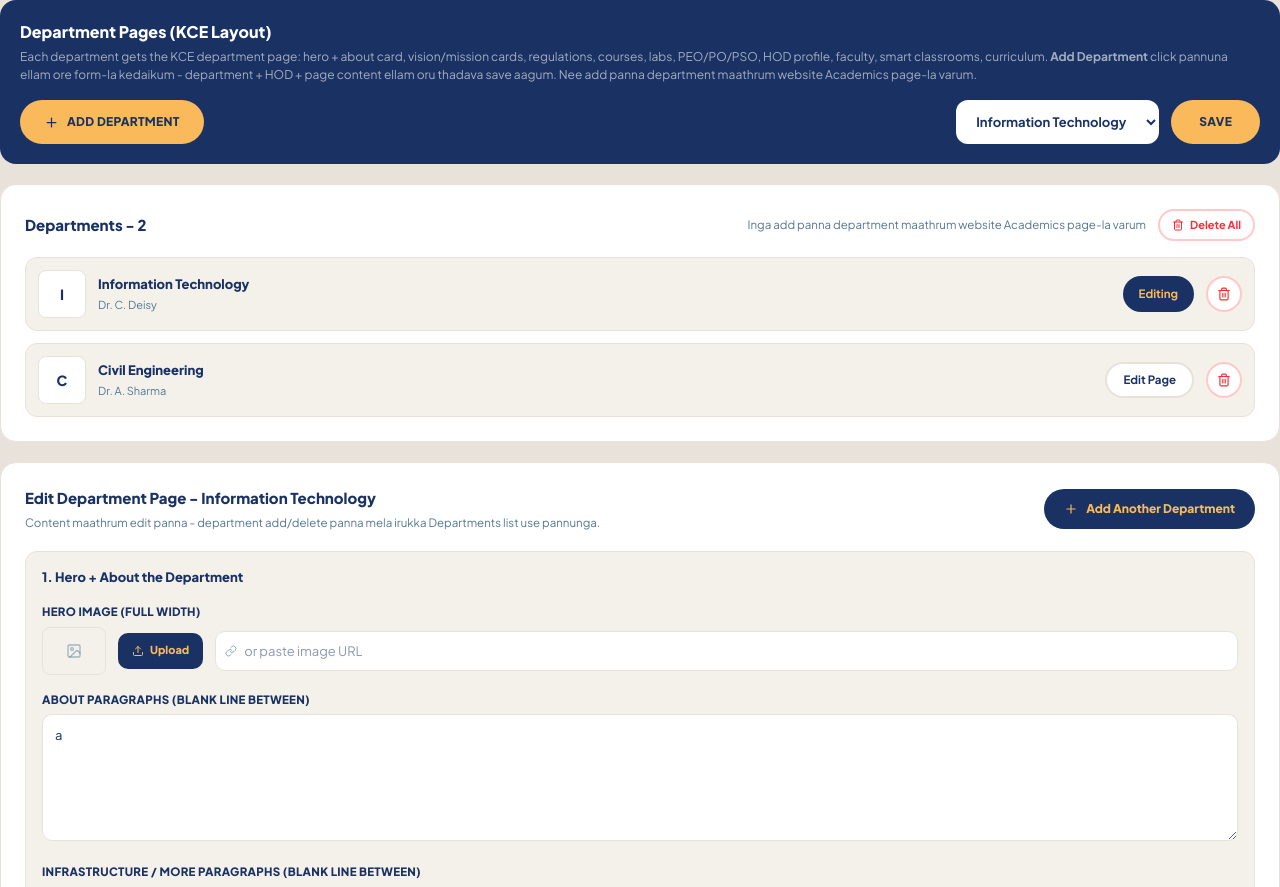
Test: Admin - department manager in Department Pages › deletes all departments in one click (clean slate)
Click the button "Delete All" at (1207, 225), box [1158, 209, 1255, 241]
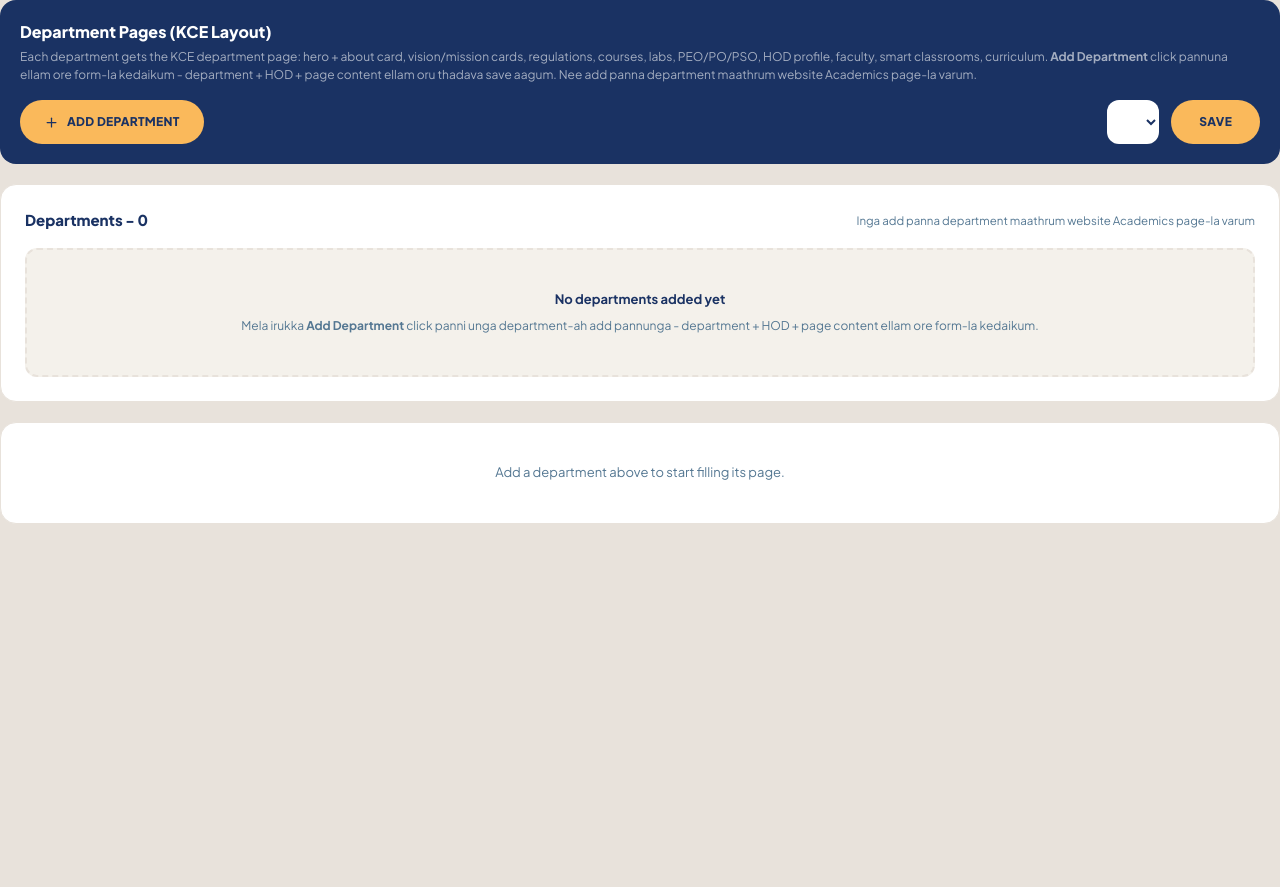
Now the text "No departments added yet" is shown, box [555, 290, 725, 306]
